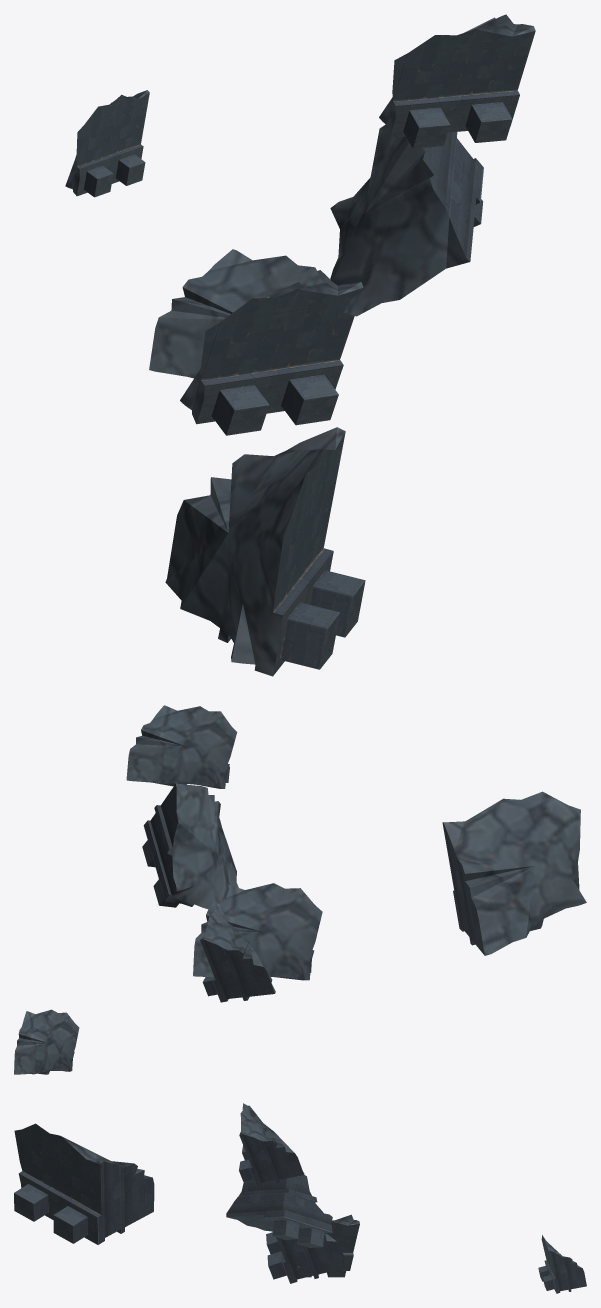
The model's file is shitou06.fbx.
3 renders of one model, top to bottom at view 1: azimuth 30°, elevation 25°; view 2: azimuth 150°, elevation 25°; view 3: azimuth 270°, elevation 25°, orthographic. The views are drawn at different scales.
Parts seen in each view (by area): view 1: shitou06; view 2: shitou06; view 3: shitou06.
Part boxes in pixels (x1,y1,x2,y2): shitou06: (65,14,535,676); shitou06: (14,705,586,1074); shitou06: (14,1103,586,1293).
Bounding box in the file's own units: 2437 × 1861 × 4712.
